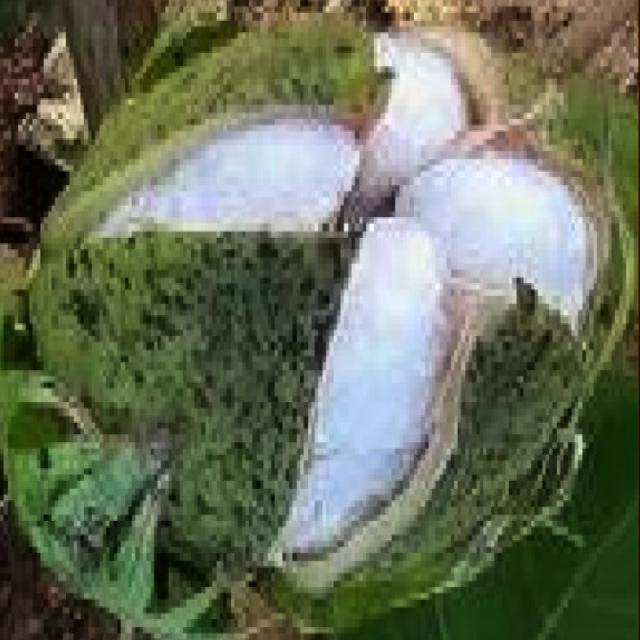Split Cotton Boll: (22, 17, 616, 637)
